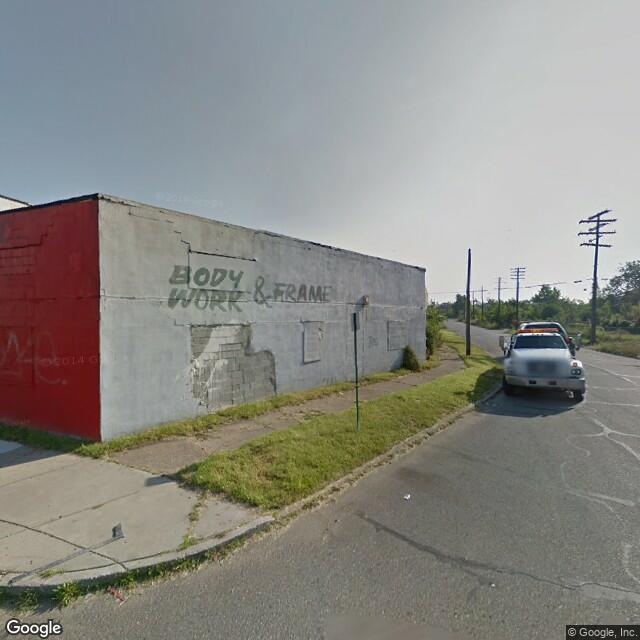litter: (109, 582, 125, 608), (403, 492, 415, 500), (112, 520, 118, 536)
